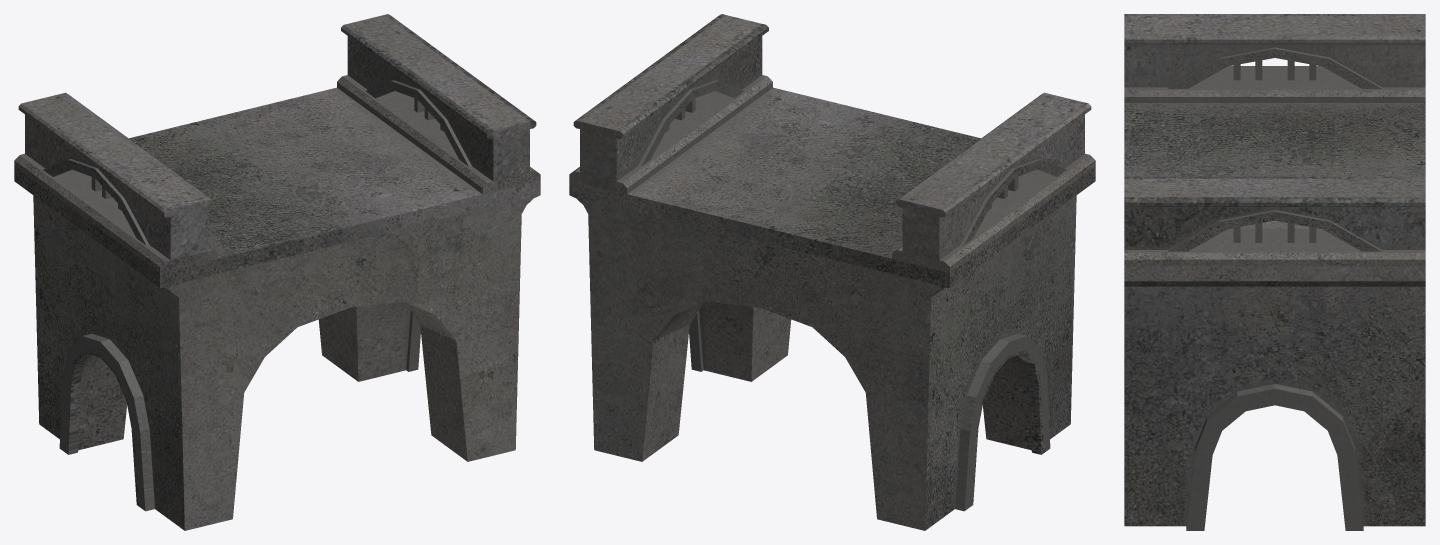
The model's file is Stone_Bridge.fbx.
The picture shows the model from 3 angles, left to right: view 1: azimuth 30°, elevation 25°; view 2: azimuth 150°, elevation 25°; view 3: azimuth 270°, elevation 25°; orthographic projection. The views are drawn at different scales.
Visible parts, largest first — view 1: Stone_Bridge; view 2: Stone_Bridge; view 3: Stone_Bridge.
Boxes of the visible parts, <box> form: Stone_Bridge: <box>14,14,540,530</box>; Stone_Bridge: <box>569,14,1095,530</box>; Stone_Bridge: <box>1124,14,1425,530</box>.
Bounding box in the file's own units: 4.52 × 3.69 × 3.
1 material, 1 textured.
